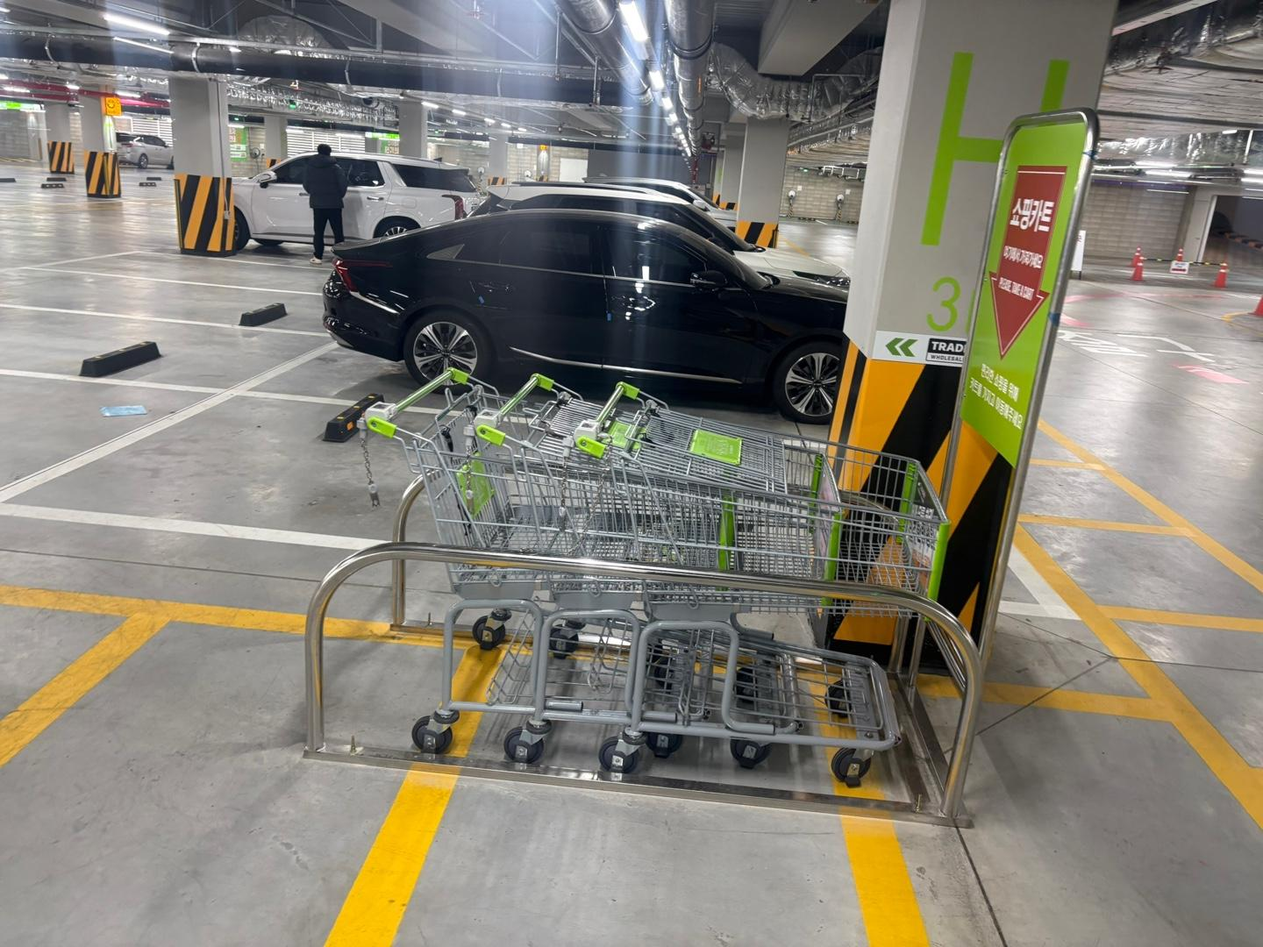combined_cart: (293, 364, 988, 821)
